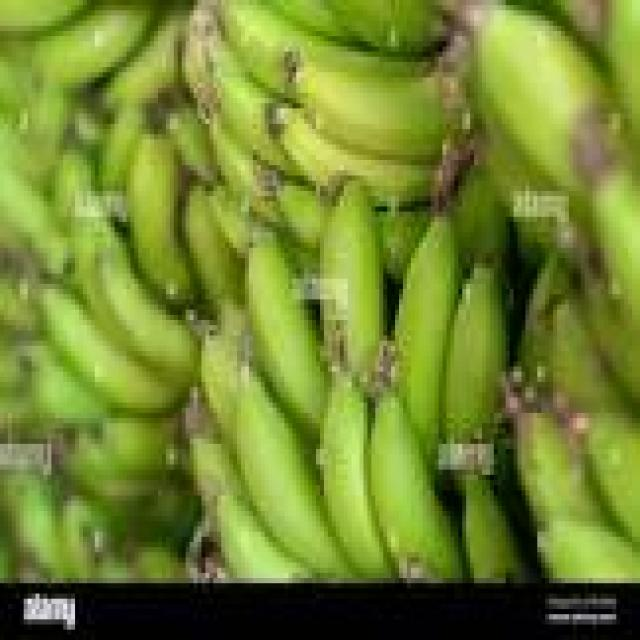banana: (475, 6, 612, 196), (234, 372, 351, 578), (76, 217, 197, 392), (214, 0, 418, 92), (44, 284, 181, 412), (368, 393, 462, 578), (293, 57, 462, 159), (245, 238, 327, 438), (396, 217, 462, 464), (95, 228, 197, 387), (277, 104, 434, 206), (320, 377, 391, 578), (320, 181, 383, 381), (443, 264, 509, 449), (210, 42, 300, 175), (127, 135, 193, 304), (32, 0, 154, 87), (518, 413, 604, 526), (218, 491, 312, 583), (0, 155, 71, 273), (103, 6, 185, 108), (72, 202, 130, 345), (550, 300, 624, 412), (581, 274, 639, 407), (186, 186, 244, 314), (593, 166, 639, 325), (28, 341, 106, 433), (64, 434, 158, 510), (210, 119, 280, 221), (585, 413, 639, 541), (463, 475, 525, 583), (538, 517, 639, 583), (0, 475, 63, 578), (518, 253, 568, 381), (328, 0, 442, 56), (16, 83, 75, 190), (451, 166, 509, 268), (99, 413, 177, 479), (182, 0, 221, 123), (605, 0, 639, 139), (202, 331, 244, 443), (190, 434, 244, 516), (534, 0, 612, 51), (210, 186, 264, 258), (99, 109, 146, 190), (166, 104, 213, 185), (380, 207, 430, 283), (60, 496, 106, 578), (277, 181, 331, 247), (52, 145, 94, 227), (269, 0, 351, 41), (0, 0, 90, 36), (0, 274, 39, 335), (0, 52, 31, 123), (135, 542, 185, 583), (0, 336, 31, 392), (0, 388, 35, 433)
